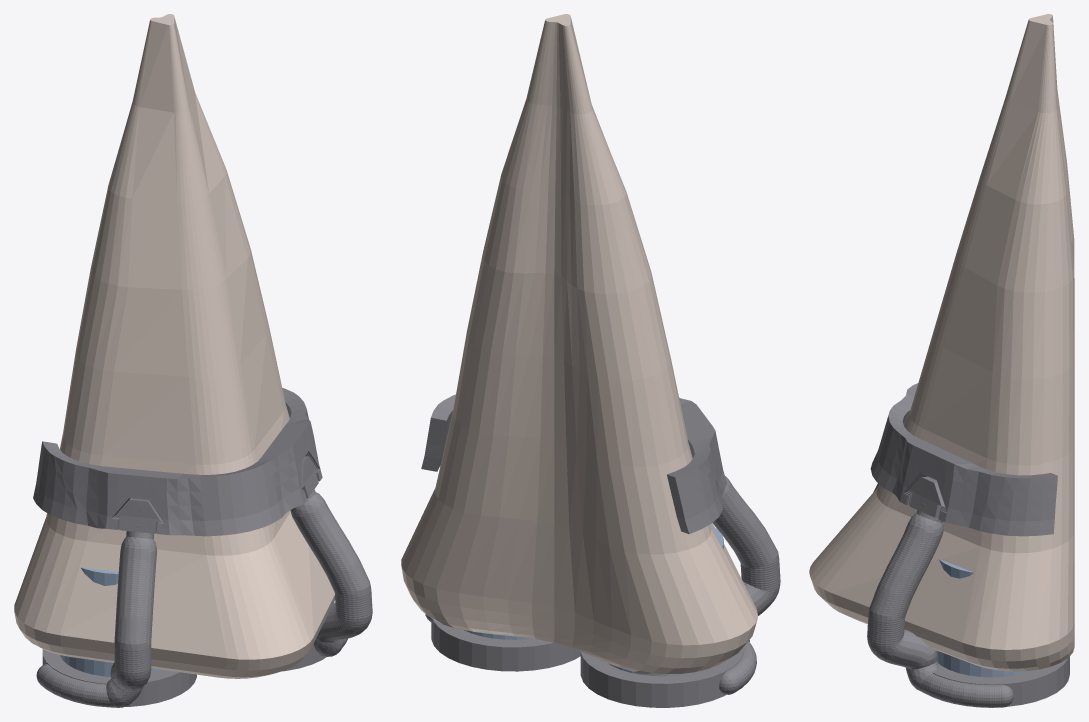
File: candidate_high_force.glb
The picture shows the model from 3 angles, left to right: view 1: azimuth 30°, elevation 25°; view 2: azimuth 150°, elevation 25°; view 3: azimuth 270°, elevation 25°; orthographic projection. The views are drawn at different scales.
Parts seen in each view (by area): view 1: body, frame_bridge, frame_leg_left, frame_leg_right, plug_left; view 2: body, frame_leg_left, frame_bridge, frame_leg_right; view 3: body, frame_leg_right, frame_bridge, plug_right.
Part boxes in pixels (left/top/right/bottom): body: left=14, top=14, right=335, bottom=678; frame_bridge: left=33, top=388, right=322, bottom=536; frame_leg_left: left=36, top=498, right=196, bottom=707; frame_leg_right: left=283, top=456, right=372, bottom=671; plug_left: left=61, top=567, right=161, bottom=676; body: left=401, top=14, right=757, bottom=675; frame_leg_left: left=580, top=476, right=780, bottom=707; frame_bridge: left=421, top=394, right=726, bottom=534; frame_leg_right: left=425, top=614, right=580, bottom=671; body: left=809, top=14, right=1074, bottom=671; frame_leg_right: left=867, top=476, right=1069, bottom=707; frame_bridge: left=870, top=383, right=1057, bottom=536; plug_right: left=937, top=559, right=1033, bottom=677.
Bounding box in the file's own units: 31.69 × 58.8 × 22.75.
